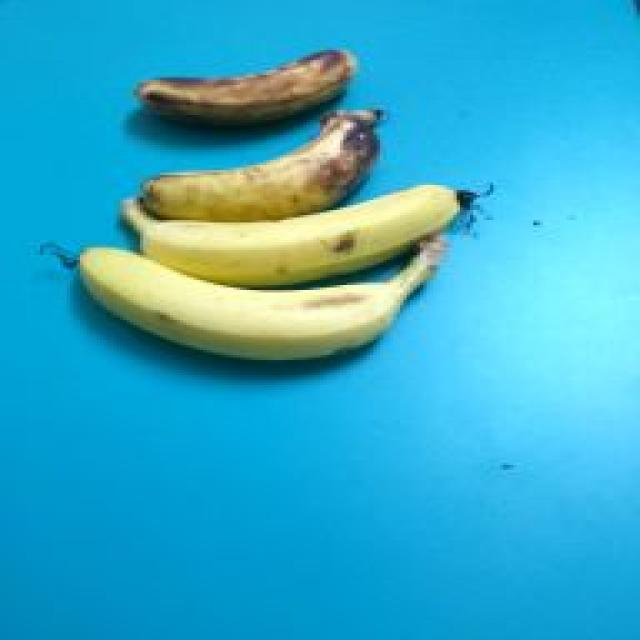Organik: (51, 232, 482, 404), (93, 188, 515, 284), (93, 106, 390, 209), (113, 44, 384, 124)
